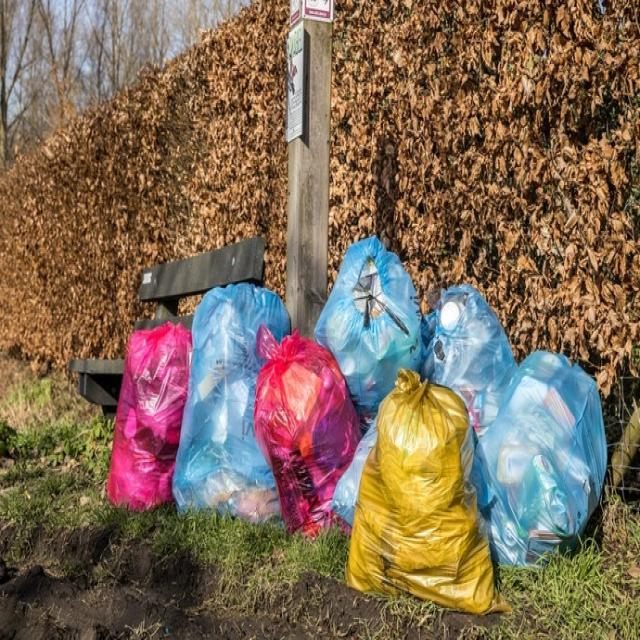sampah-detection: (348, 368, 512, 618), (476, 333, 607, 578), (173, 280, 294, 537), (252, 318, 364, 540), (310, 229, 422, 406), (108, 320, 192, 511), (422, 274, 514, 429)
